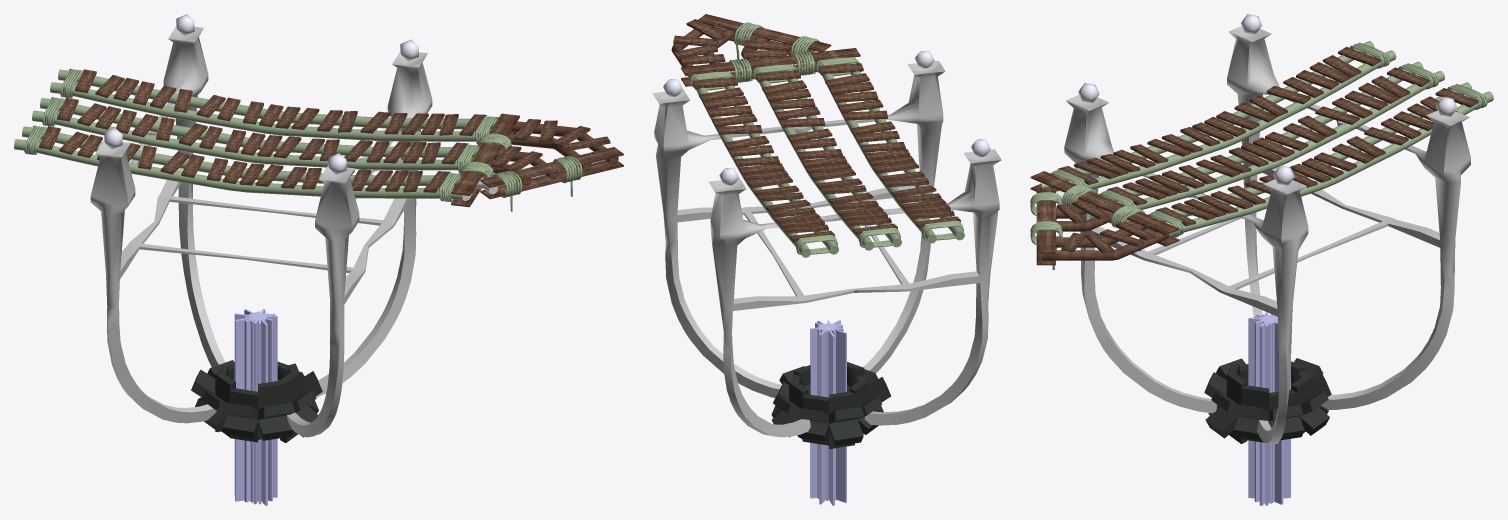
File: 3_bridge_left.fbx
3 views of the same model, side by side, from view 1: azimuth 30°, elevation 25°; view 2: azimuth 150°, elevation 25°; view 3: azimuth 270°, elevation 25° (orthographic). The views are drawn at different scales.
Visible parts, largest first — view 1: 3_left_base, gravityring, 3_left_LaR, 3_left_LaM, 3_left_LaL, 3_left_LaR_c, 3_left_verschlag_02, 3_left_verschlag, 3_left_LaM_c, 3_left_verschlag_02_ropes, 3_left_LaL_ropes, 3_left_LaR_ropes (+1 smaller); view 2: 3_left_base, gravityring, 3_left_LaL, 3_left_LaM, 3_left_LaR, 3_left_LaR_c, 3_left_verschlag, 3_left_verschlag_02, 3_left_LaM_c, 3_left_ropevertical, 3_left_LaL_ropes, 3_left_LaM_ropes (+2 smaller); view 3: 3_left_base, gravityring, 3_left_LaL, 3_left_LaM, 3_left_LaR, 3_left_LaR_c, 3_left_verschlag, 3_left_LaM_c, 3_left_verschlag_02, 3_left_verschlag_02_ropes, 3_left_ropevertical, 3_left_LaR_ropes (+2 smaller).
Boxes of the visible parts, <box> form: 3_left_base: <box>90,14,432,437</box>; gravityring: <box>191,308,322,505</box>; 3_left_LaR: <box>50,69,497,141</box>; 3_left_LaM: <box>32,97,479,170</box>; 3_left_LaL: <box>14,126,462,200</box>; 3_left_LaR_c: <box>507,119,618,171</box>; 3_left_verschlag_02: <box>480,147,623,199</box>; 3_left_verschlag: <box>451,113,519,207</box>; 3_left_LaM_c: <box>489,146,558,186</box>; 3_left_verschlag_02_ropes: <box>493,155,582,211</box>; 3_left_LaL_ropes: <box>24,125,462,202</box>; 3_left_LaR_ropes: <box>60,68,498,144</box>; 3_left_base: <box>652,50,1001,437</box>; gravityring: <box>771,320,890,505</box>; 3_left_LaL: <box>815,61,964,243</box>; 3_left_LaM: <box>752,68,901,250</box>; 3_left_LaR: <box>689,75,838,257</box>; 3_left_LaR_c: <box>671,19,738,78</box>; 3_left_verschlag: <box>681,48,860,86</box>; 3_left_verschlag_02: <box>698,14,831,55</box>; 3_left_LaM_c: <box>741,37,794,71</box>; 3_left_ropevertical: <box>729,51,815,82</box>; 3_left_LaL_ropes: <box>816,57,963,240</box>; 3_left_LaM_ropes: <box>753,64,900,247</box>; 3_left_base: <box>1064,14,1470,444</box>; gravityring: <box>1204,312,1331,505</box>; 3_left_LaL: <box>1048,41,1396,189</box>; 3_left_LaM: <box>1098,61,1444,209</box>; 3_left_LaR: <box>1147,82,1493,237</box>; 3_left_LaR_c: <box>1042,221,1169,260</box>; 3_left_verschlag: <box>1030,171,1179,246</box>; 3_left_LaM_c: <box>1056,200,1113,231</box>; 3_left_verschlag_02: <box>1036,188,1055,265</box>; 3_left_verschlag_02_ropes: <box>1030,192,1062,269</box>; 3_left_ropevertical: <box>1062,184,1145,251</box>; 3_left_LaR_ropes: <box>1148,84,1487,237</box>.
Bounding box in the file's own units: 133 × 117 × 121.
Materials: 6 (1 with a texture image).
